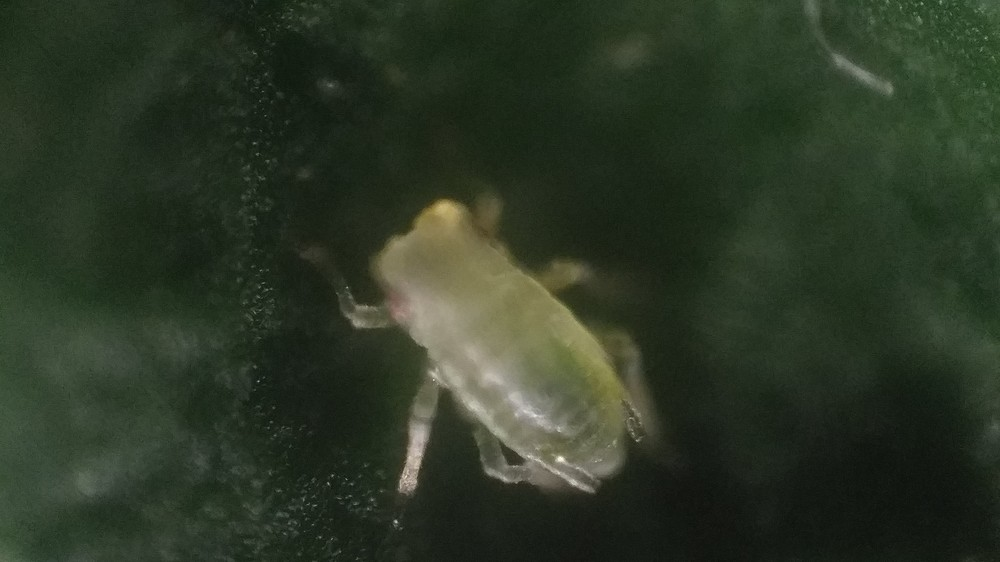Pulgon: (271, 147, 768, 531)
